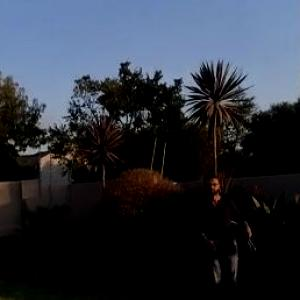follow: (186, 166, 264, 299)
